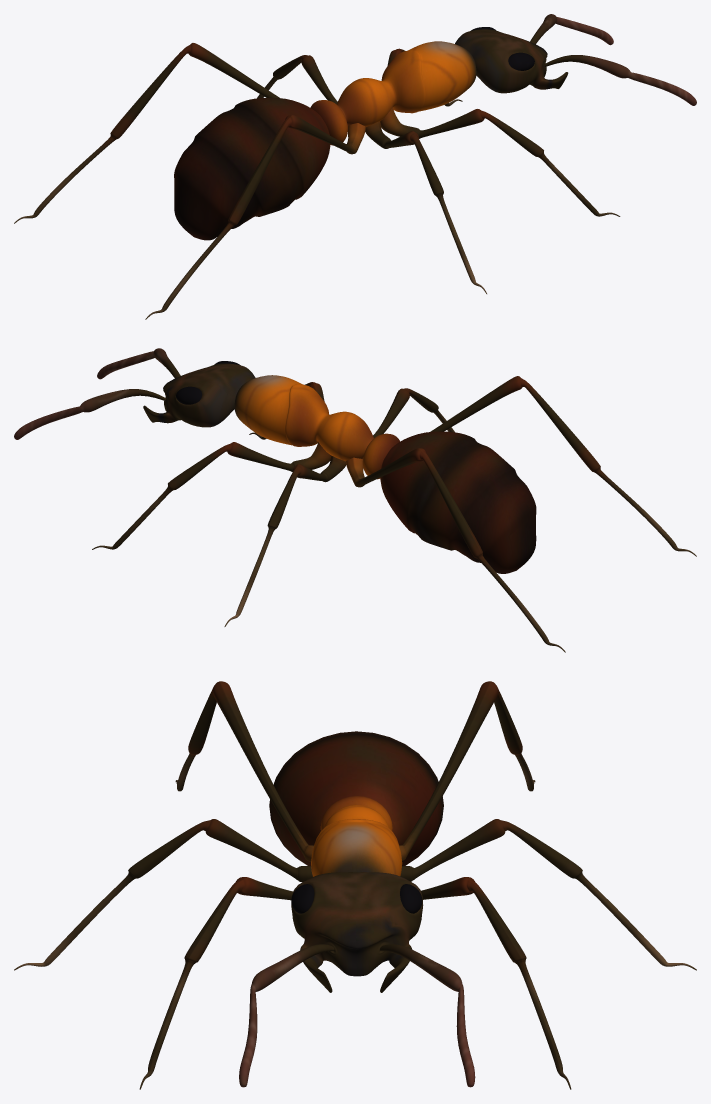
Rendered from formica rufa.fbx.
The picture shows the model from 3 angles, top to bottom: view 1: azimuth 30°, elevation 25°; view 2: azimuth 150°, elevation 25°; view 3: azimuth 270°, elevation 25°; orthographic projection. The views are drawn at different scales.
Visible parts, largest first — view 1: Sphere.002; view 2: Sphere.002; view 3: Sphere.002.
Part boxes in pixels (box(x1,y1,x2,y2)): Sphere.002: box(14, 14, 696, 319); Sphere.002: box(14, 348, 696, 652); Sphere.002: box(14, 681, 696, 1089).
Size of what is drawn, in the model's own units: 230 by 58.51 by 173.
